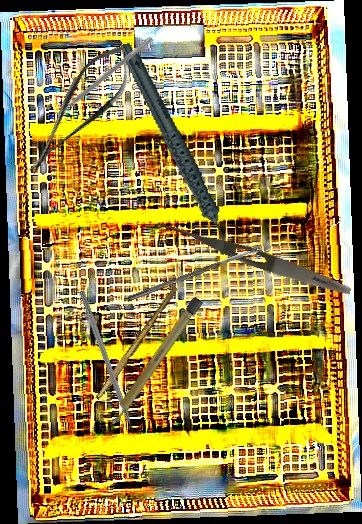Dressing Forceps: (154, 216, 354, 300)
Handpiece: (119, 31, 231, 266)
Hook Surgical: (77, 290, 139, 443)
Micro Scissor: (9, 29, 151, 187)
Scalpel Handle: (105, 295, 204, 429), (95, 284, 179, 403)
Spatula Surgical: (51, 31, 154, 120)
Surgical Spoon: (126, 245, 264, 303)
